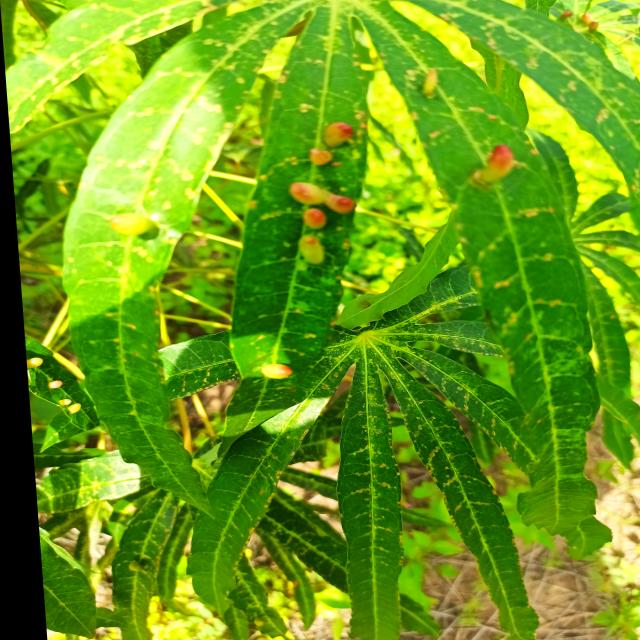Mosca: (275, 178, 370, 278), (29, 348, 91, 429), (301, 109, 366, 175), (454, 139, 530, 194), (98, 207, 173, 243), (550, 2, 608, 42), (241, 349, 286, 385), (415, 59, 446, 108)
